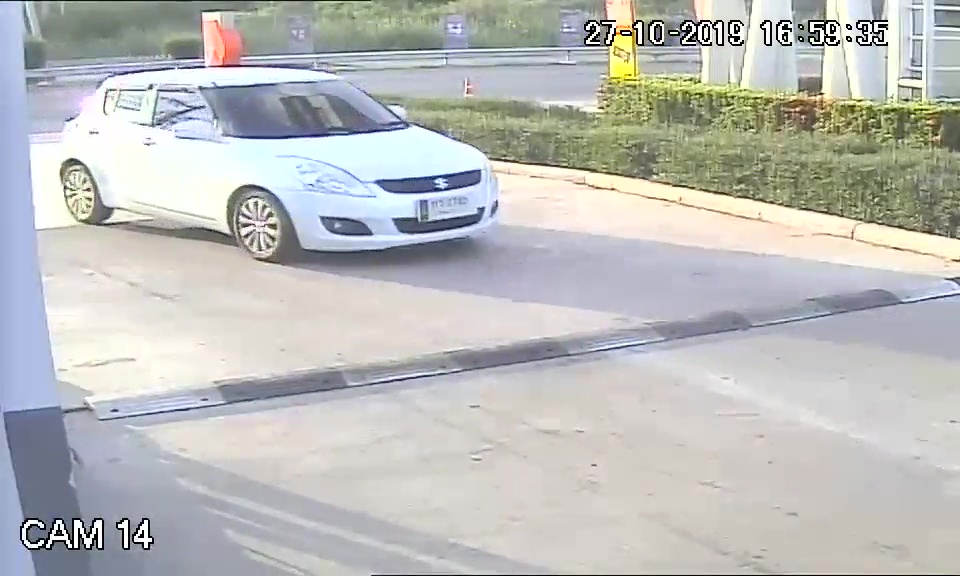sedan: (52, 63, 505, 265)
